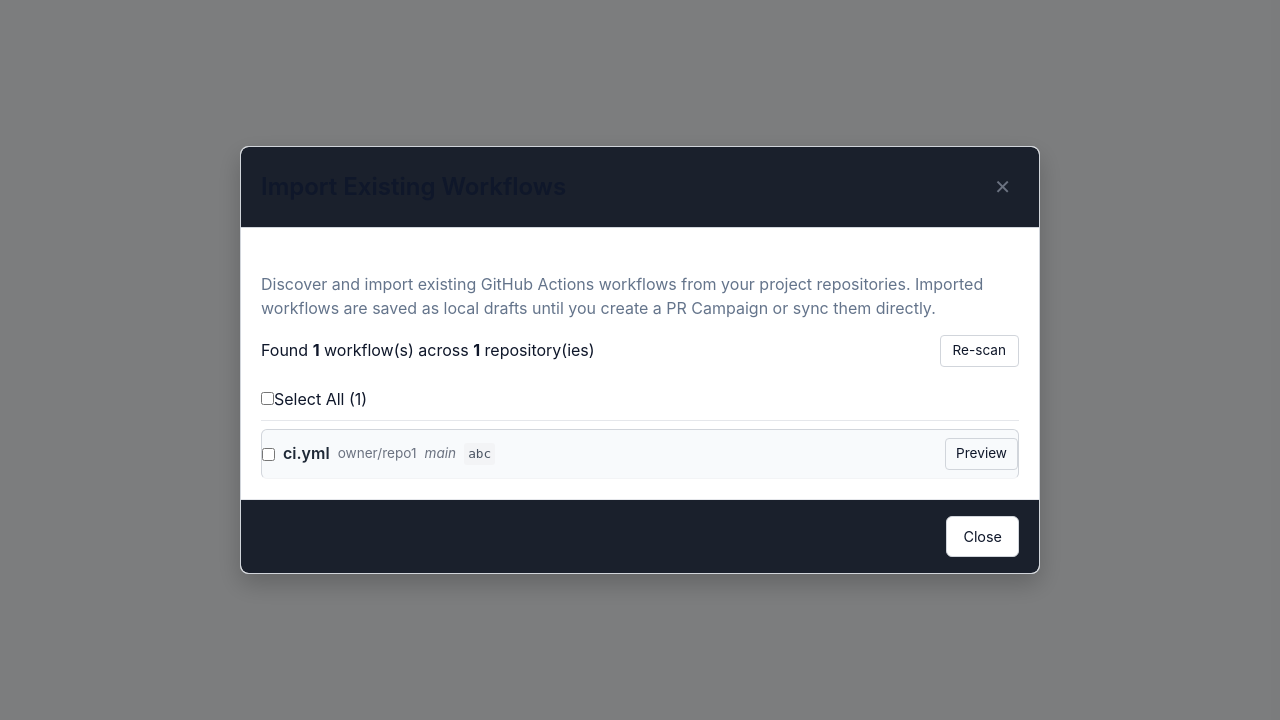
WorkflowImportPanel › disables import buttons while importing
This screenshot has width=1280, height=720.
Check: the element with test id "workflow-list" is shown, box [261, 429, 1019, 479]
Note: Select the workflow
Click the checkbox labelled "ci.yml owner/repo1 main abc": (268, 454) [262, 448, 275, 461]
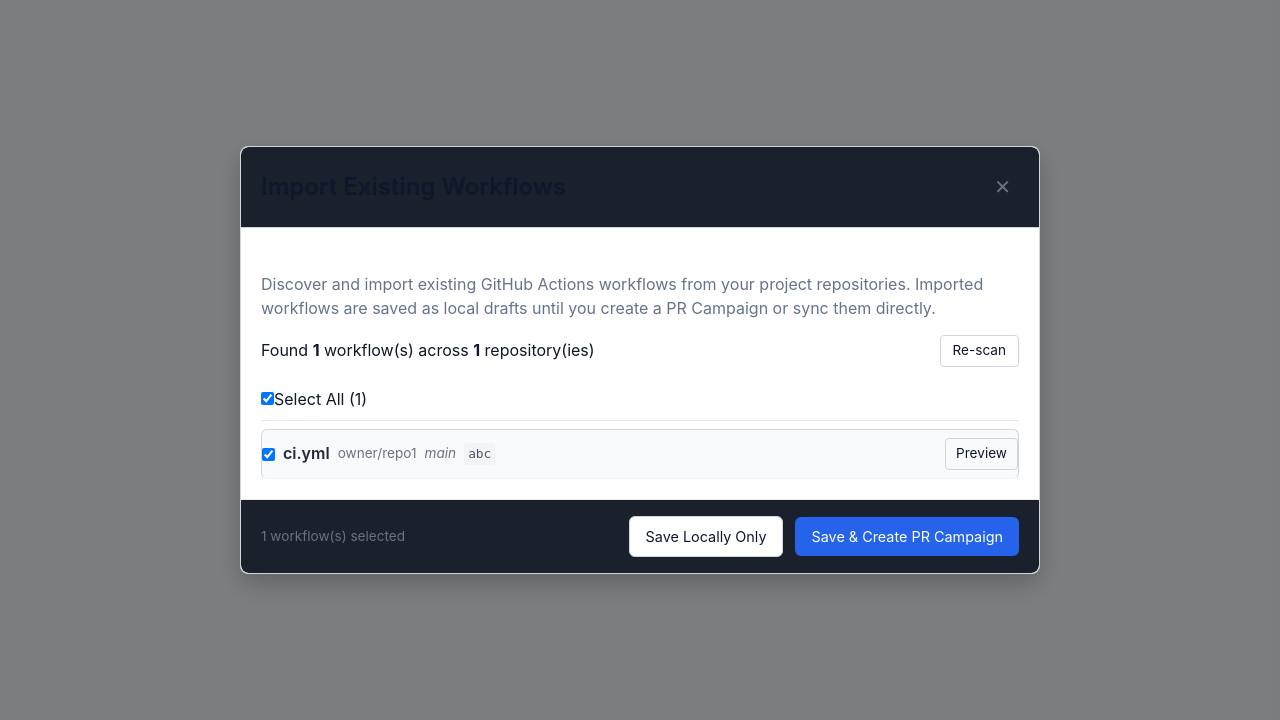
Check: the button with test id "save-local-button" is shown
Click the button with test id "save-local-button": (706, 536) [629, 516, 784, 557]
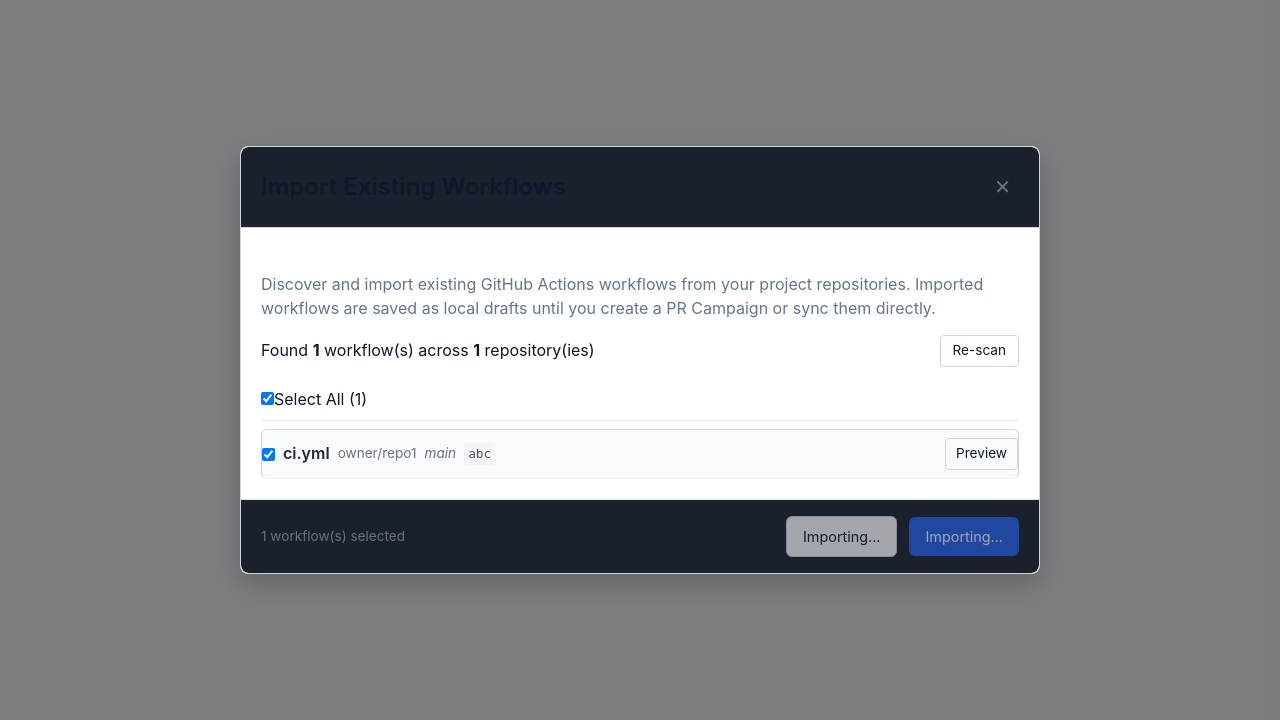
Check: the button with test id "save-local-button" is disabled, box [786, 516, 898, 557]
